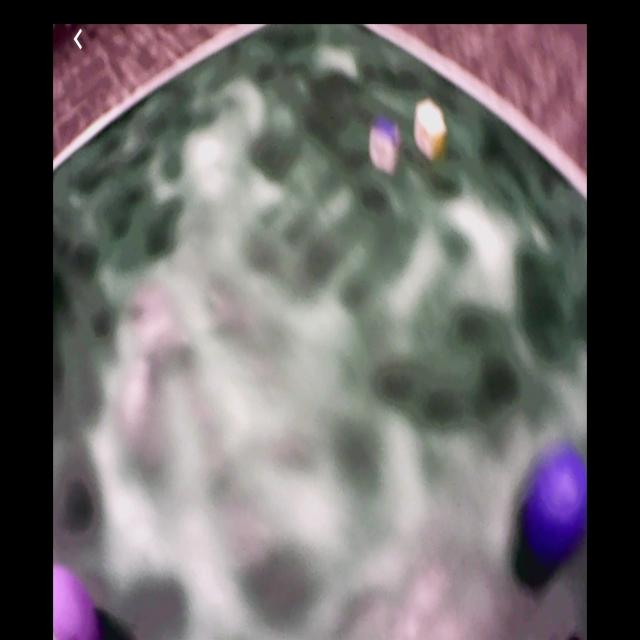ball: (521, 448, 584, 560), (55, 567, 104, 640)
